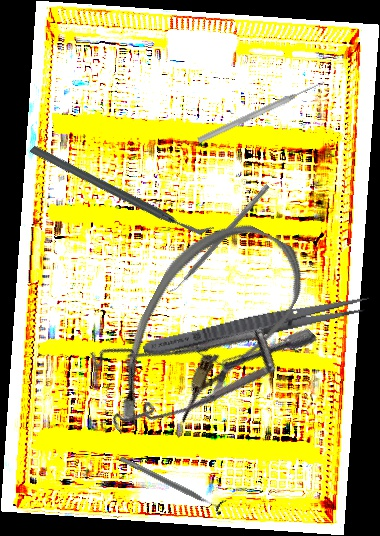Cannula: (95, 200, 318, 465)
Chopper: (27, 91, 215, 289)
Dressing Forceps: (141, 290, 372, 361)
Fixation Ring: (116, 449, 228, 517)
Pusher: (196, 78, 327, 145)
Spatula Surgical: (164, 179, 271, 299)
Speculum: (65, 232, 320, 483)
